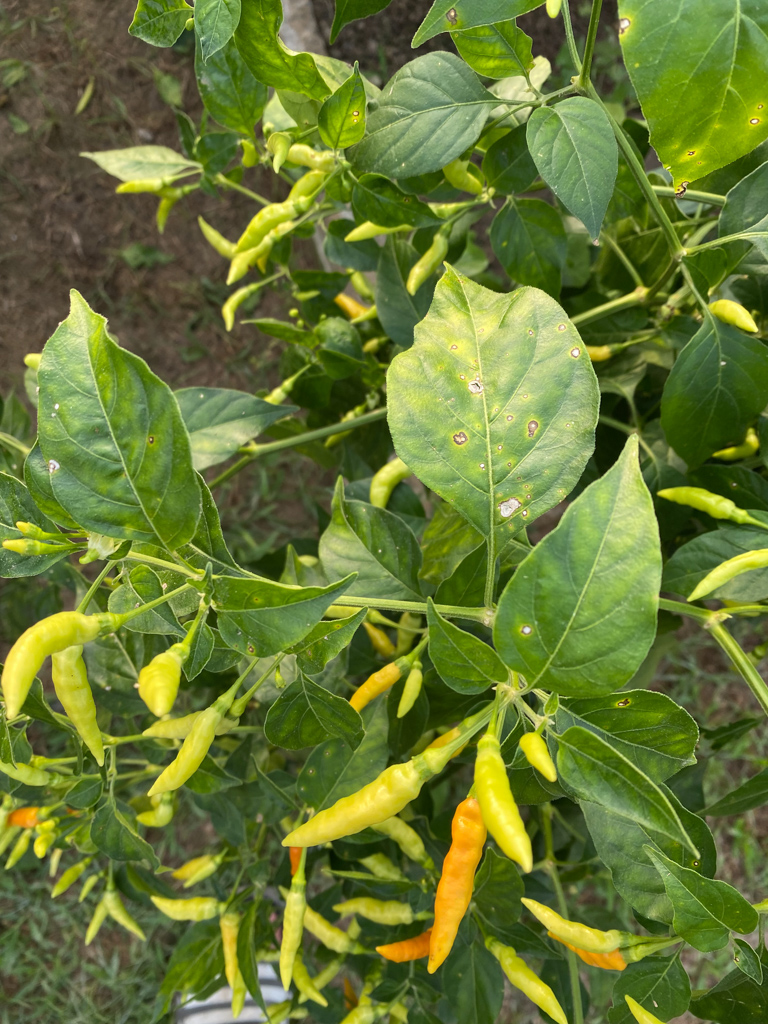frog-eye leafspot: (493, 481, 535, 525), (456, 368, 491, 398), (511, 616, 544, 641), (744, 99, 766, 132), (682, 143, 710, 168), (617, 7, 635, 40), (449, 426, 472, 448), (442, 6, 465, 28), (523, 414, 542, 438), (140, 428, 159, 451), (612, 695, 638, 711), (566, 344, 584, 362), (243, 640, 258, 654), (247, 594, 268, 604), (348, 108, 362, 123), (555, 319, 568, 334), (504, 411, 517, 426), (515, 390, 531, 398), (690, 858, 701, 869), (305, 767, 317, 777), (333, 622, 344, 630)
